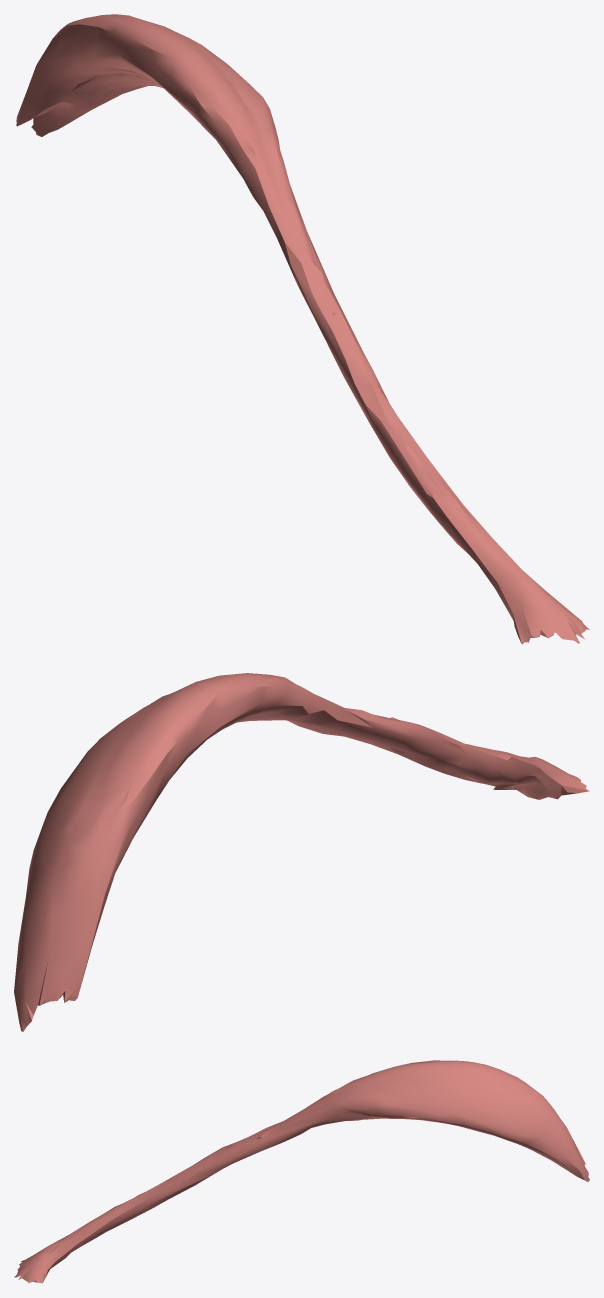
The model's file is fma51145_mm1733.glb.
3 renders of one model, top to bottom at view 1: azimuth 30°, elevation 25°; view 2: azimuth 150°, elevation 25°; view 3: azimuth 270°, elevation 25°, orthographic. The views are drawn at different scales.
Parts seen in each view (by area): view 1: FMA51145_MM1733; view 2: FMA51145_MM1733; view 3: FMA51145_MM1733.
Part boxes in pixels (x1=…): FMA51145_MM1733: x1=16, y1=14, x2=589, y2=644; FMA51145_MM1733: x1=14, y1=673, x2=589, y2=1031; FMA51145_MM1733: x1=14, y1=1060, x2=589, y2=1283.
Bounding box in the file's own units: 0.014 × 0.046 × 0.1196.
